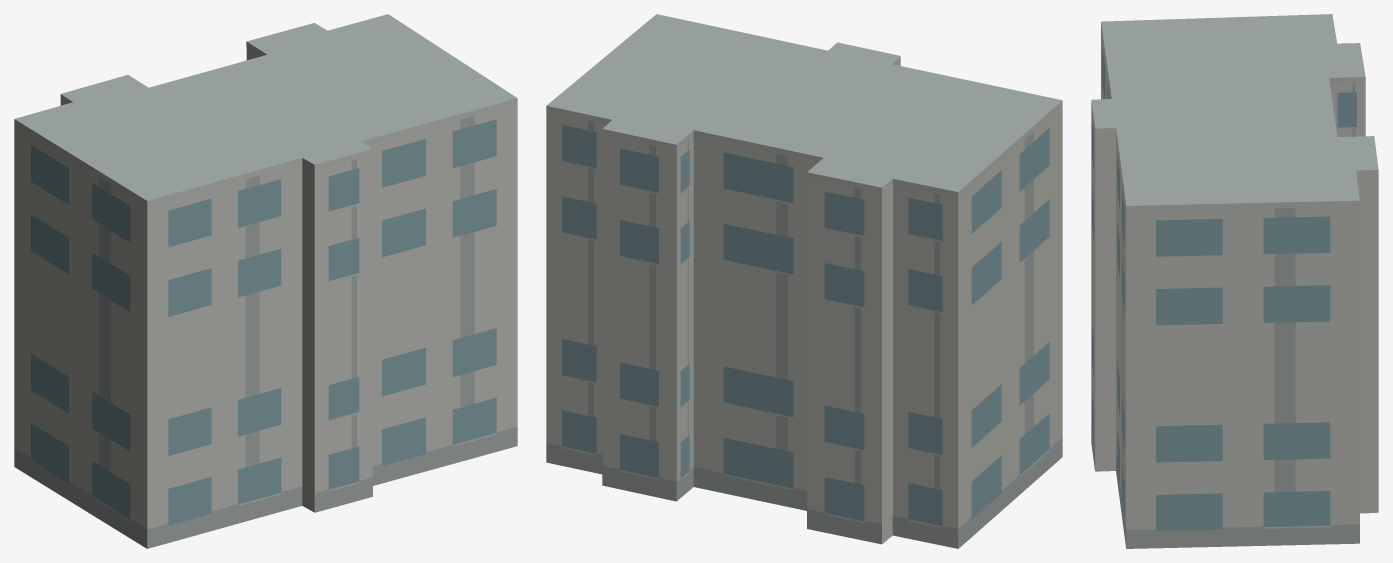
Rendered from survey-upis-32699071.glb.
3 renders of one model, left to right at view 1: azimuth 30°, elevation 25°; view 2: azimuth 150°, elevation 25°; view 3: azimuth 270°, elevation 25°, orthographic. The views are drawn at different scales.
Visible parts, largest first — view 1: survey-upis-32699071.tmp; view 2: survey-upis-32699071.tmp; view 3: survey-upis-32699071.tmp.
Boxes of the visible parts, <box> form: survey-upis-32699071.tmp: <box>14,14,517,548</box>; survey-upis-32699071.tmp: <box>546,14,1062,548</box>; survey-upis-32699071.tmp: <box>1091,14,1378,548</box>.
Size of the model in its own units: 17.4 by 14.5 by 11.01.
